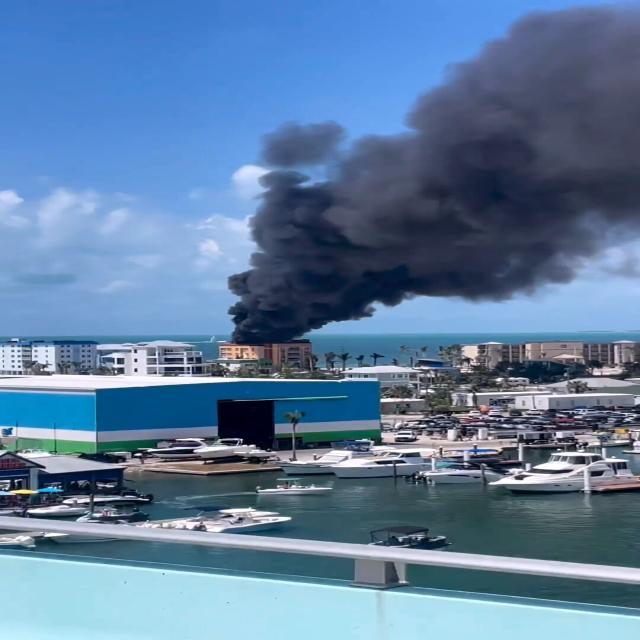smoke: (421, 64, 618, 262), (253, 181, 395, 308)
